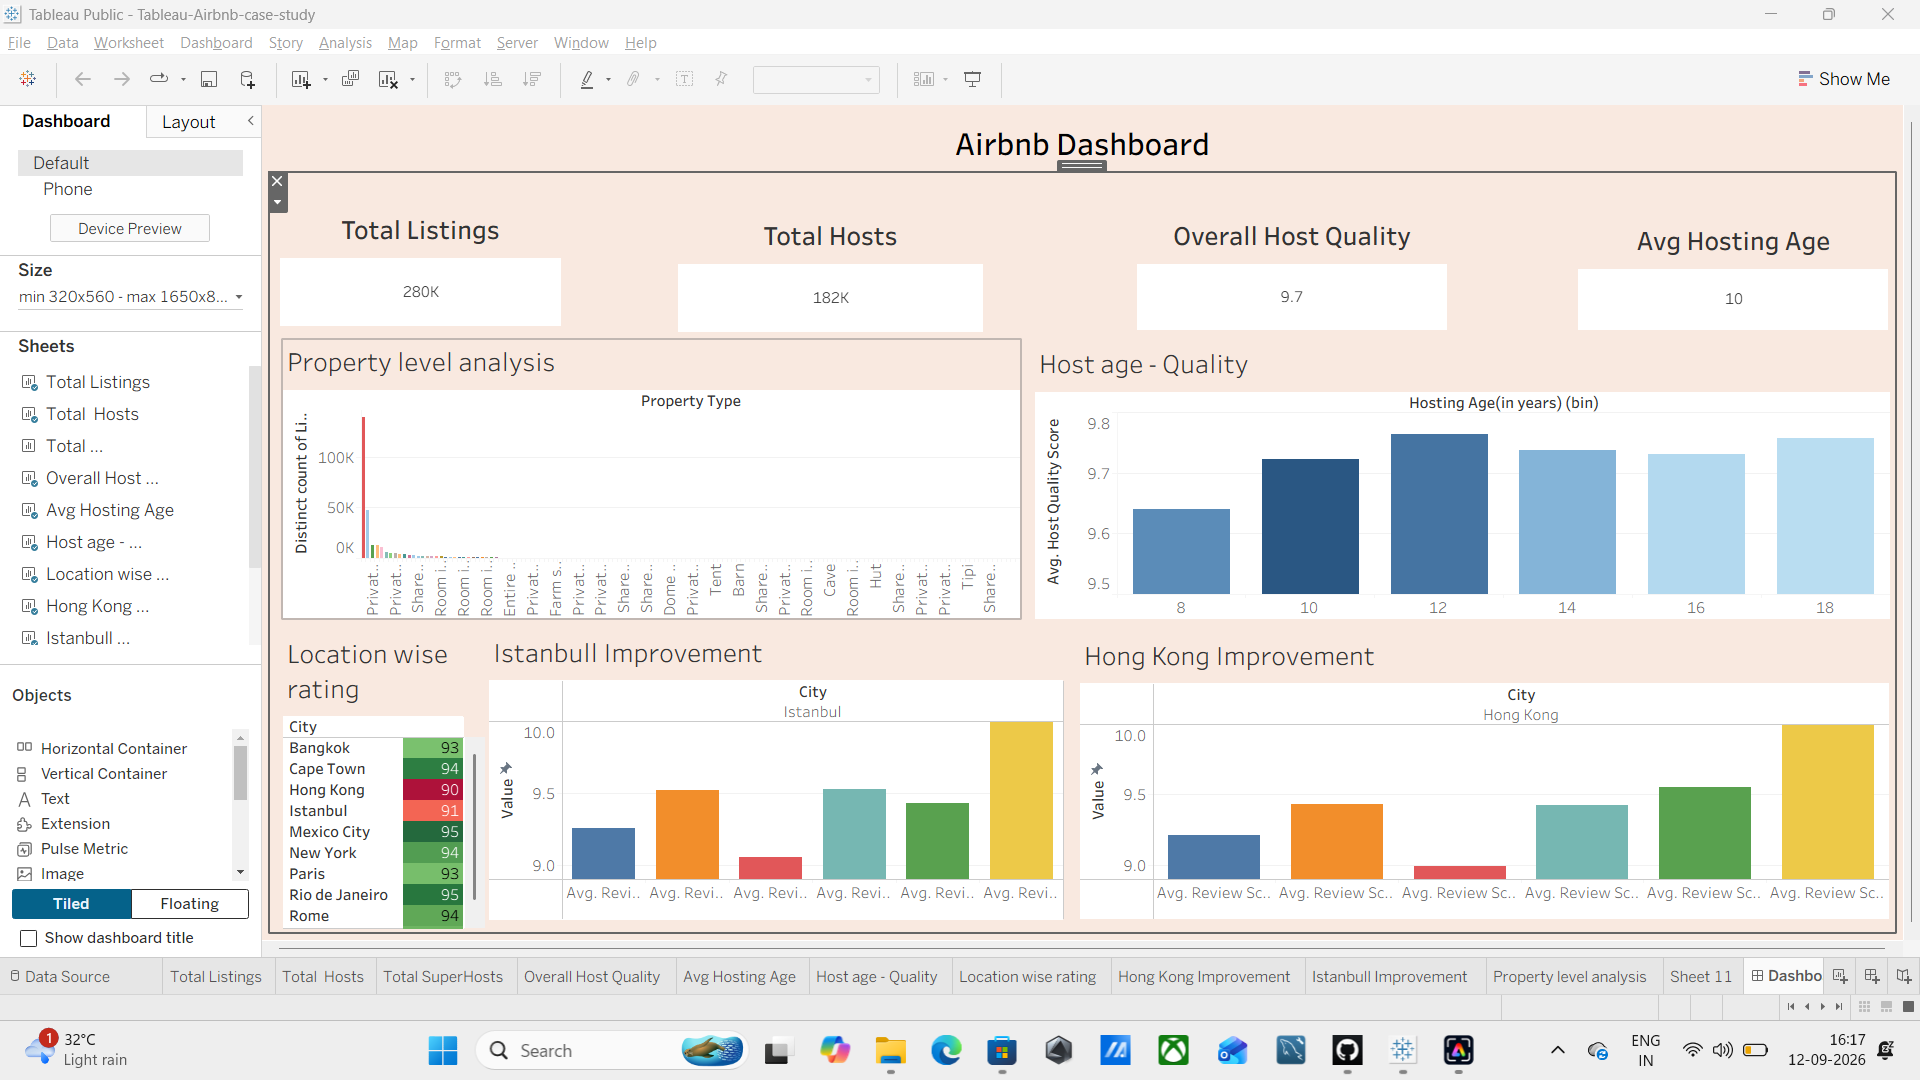

What the dashboard file says about the page in this screenshot:
{"tool":"tableau","page":{"name":"Dashboard 1","canvas":[1000,1000],"units":"permille","ordinal":0},"visuals":[{"type":"title","box":[4.9,9.6,990.2,71.6]},{"type":"text","box":[4.9,81.2,990.2,909.2]},{"type":"worksheet","title":"Total Listings","mark":"Automatic","box":[10.9,123.4,171.3,141]},{"type":"worksheet","title":"Total  Hosts","mark":"Automatic","box":[253.5,130.5,185.9,141.3]},{"type":"worksheet","title":"Overall Host Quality","mark":"Automatic","box":[533.2,130.5,188.9,138.9]},{"type":"worksheet","title":"Avg Hosting Age","mark":"Automatic","box":[801.8,136.3,189.3,132.8]},{"type":"worksheet","title":"Property level analysis","mark":"Automatic","rows":["listing_id"],"cols":["property_type"],"box":[12.8,282,449,332.6]},{"type":"worksheet","title":"Host age - Quality","mark":"Automatic","rows":["Calculation_1457709457633280"],"cols":["Hosting Age(in years) (bin)"],"box":[470.8,284.4,521.3,331.4]},{"type":"worksheet","title":"Istanbull Improvement ","mark":"Automatic","cols":["city"],"box":[138.5,629.9,350.6,346.7]},{"type":"worksheet","title":"Location wise rating","mark":"Square","rows":["city"],"box":[12.8,631,128.8,356.1]},{"type":"worksheet","title":"Hong Kong Improvement","mark":"Automatic","cols":["city"],"box":[498.2,633.4,493.3,341.9]}]}

Visuals, with their boxes on the dashboard's canvas, which has no fixed pixel size, in thousandths of its width and height (x1, y1, x2, y2). These are canvas units, not pixel positions in the 1920x1080 screenshot, which may show the page scaled, cropped or inside an application window:
title: x1=5, y1=10, x2=995, y2=81
text: x1=5, y1=81, x2=995, y2=990
"Total Listings" worksheet: x1=11, y1=123, x2=182, y2=264
"Total  Hosts" worksheet: x1=254, y1=130, x2=439, y2=272
"Overall Host Quality" worksheet: x1=533, y1=130, x2=722, y2=269
"Avg Hosting Age" worksheet: x1=802, y1=136, x2=991, y2=269
"Property level analysis" worksheet: x1=13, y1=282, x2=462, y2=615
"Host age - Quality" worksheet: x1=471, y1=284, x2=992, y2=616
"Istanbull Improvement " worksheet: x1=138, y1=630, x2=489, y2=977
"Location wise rating" worksheet (Square marks): x1=13, y1=631, x2=142, y2=987
"Hong Kong Improvement" worksheet: x1=498, y1=633, x2=992, y2=975
